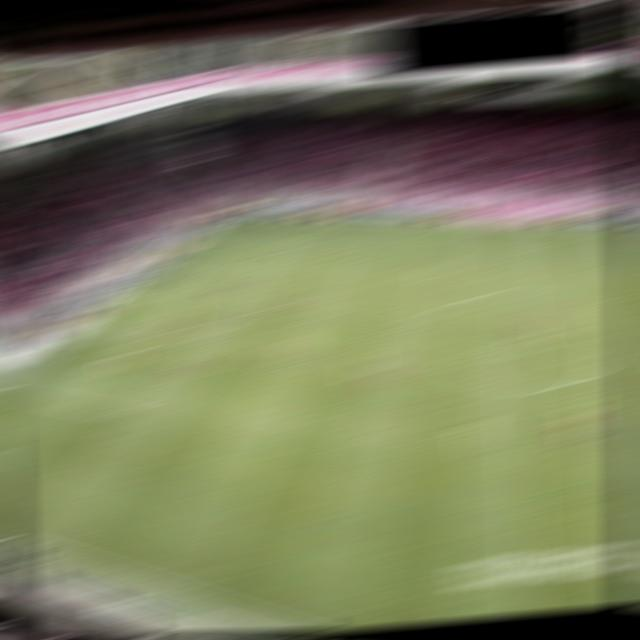bigarea_bottom_inner: (109, 410, 140, 418)
bigarea_bottom_outter: (0, 386, 20, 394)
bigarea_top_inner: (264, 245, 296, 254)
bigarea_top_outter: (177, 242, 208, 251)
bottom_arc_area_intersection: (177, 335, 208, 345)
corner: (214, 215, 246, 223)
halfcircle_bottom: (502, 383, 534, 391)
halfcircle_top: (498, 290, 530, 298)
midline_top_intersection: (495, 221, 526, 231)
smallarea_bottom_inner: (92, 336, 124, 346)
smallarea_bottom_outter: (59, 332, 92, 340)
smallarea_top_inner: (170, 271, 201, 280)
smallarea_top_outter: (140, 269, 172, 278)
top_arc_area_intersection: (230, 280, 261, 288)
